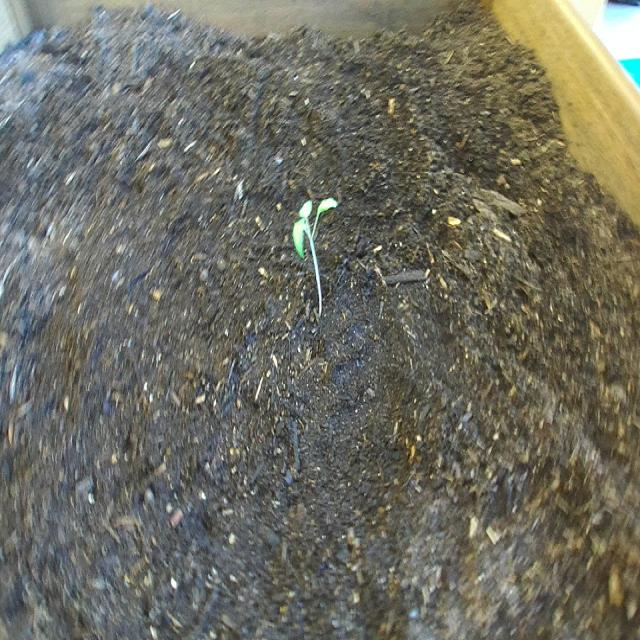Healthy: (290, 191, 340, 318)
